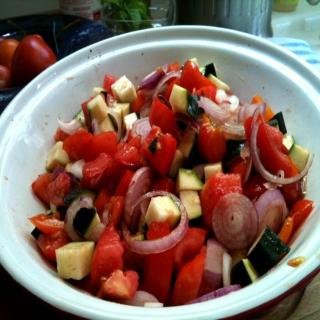tomato: (7, 33, 54, 90), (138, 126, 176, 174), (0, 41, 19, 67), (0, 64, 10, 89)
